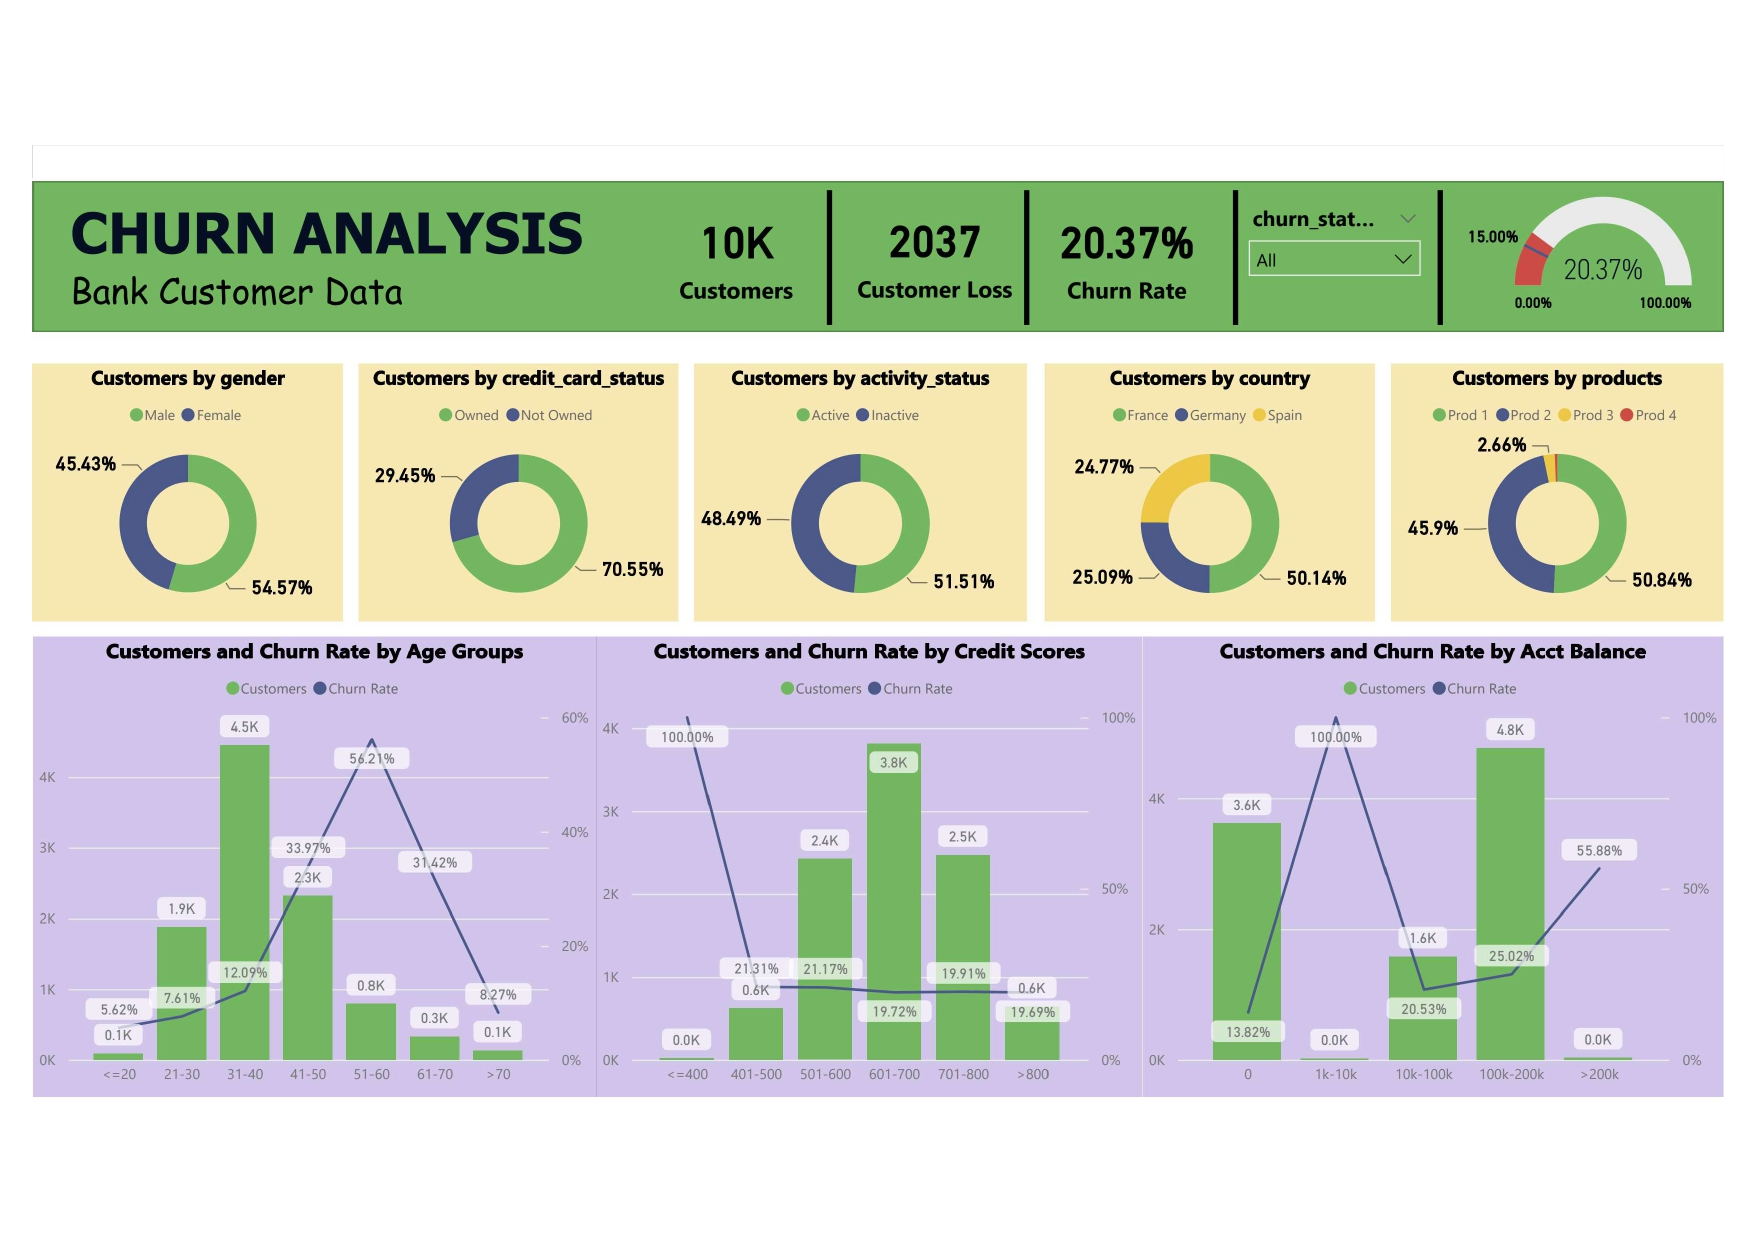

What the dashboard file says about the page in this screenshot:
{"tool":"powerbi","page":{"name":"Page 1","canvas":[1280,720],"ordinal":0},"visuals":[{"type":"shape","box":[0,26.9,1280,114.2],"z":500},{"type":"card","fields":{"Values":["Bank Customer Churn Prediction.Customers"]},"box":[461.9,35.3,141.1,94.1],"z":1000},{"type":"card","fields":{"Values":["Bank Customer Churn Prediction.Churn Rate"]},"box":[766,37,124.3,90.7],"z":2000},{"type":"card","fields":{"Values":["Bank Customer Churn Prediction.Customer Loss"]},"box":[613.1,33.6,139.4,95.7],"z":3000},{"type":"donutChart","fields":{"Category":["Bank Customer Churn Prediction.gender"],"Y":["Bank Customer Churn Prediction.Customers"]},"box":[0,164.6,235.2,194.9],"z":4000},{"type":"donutChart","fields":{"Y":["Bank Customer Churn Prediction.Customers"],"Category":["Bank Customer Churn Prediction.activity_status"]},"box":[500.6,164.6,252,194.9],"z":5000},{"type":"donutChart","fields":{"Y":["Bank Customer Churn Prediction.Customers"],"Category":["Bank Customer Churn Prediction.country"]},"box":[766,164.6,250.3,194.9],"z":6000},{"type":"donutChart","fields":{"Y":["Bank Customer Churn Prediction.Customers"],"Category":["Bank Customer Churn Prediction.products"]},"box":[1028,164.6,252,194.9],"z":7000},{"type":"donutChart","fields":{"Y":["Bank Customer Churn Prediction.Customers"],"Category":["Bank Customer Churn Prediction.credit_card_status"]},"box":[246.9,164.6,241.9,194.9],"z":8000},{"type":"lineClusteredColumnComboChart","fields":{"Y":["Bank Customer Churn Prediction.Customers"],"Y2":["Bank Customer Churn Prediction.Churn Rate"],"Category":["Age Groups.Age Groups"]},"box":[0,371.2,426.7,349.4],"z":9000},{"type":"lineClusteredColumnComboChart","fields":{"Y":["Bank Customer Churn Prediction.Customers"],"Y2":["Bank Customer Churn Prediction.Churn Rate"],"Category":["Credit Scores Groups.Credit Scores"]},"box":[426.7,371.2,413.2,349.4],"z":10000},{"type":"lineClusteredColumnComboChart","fields":{"Y":["Bank Customer Churn Prediction.Customers"],"Y2":["Bank Customer Churn Prediction.Churn Rate"],"Category":["Acct Balance Groups.Acct Balance"]},"box":[839.9,371.2,440.1,349.4],"z":11000},{"type":"slicer","fields":{"Values":["Bank Customer Churn Prediction.churn_status"]},"box":[910.4,38.6,149.5,87.3],"z":12000},{"type":"gauge","fields":{"Y":["Bank Customer Churn Prediction.Churn Rate"],"MaxValue":["Max(Bank Customer Churn Prediction.Max Churn Rate)"],"MinValue":["Min(Bank Customer Churn Prediction.Min Churn Rate)"],"TargetValue":["Max(Bank Customer Churn Prediction.Targate Churn Rate)"]},"box":[1073.4,33.6,189.8,99.1],"z":13000},{"type":"shape","box":[505.6,33.6,194.9,102.5],"z":13001},{"type":"shape","box":[813,33.6,194.9,102.5],"z":13002},{"type":"shape","box":[655.1,33.6,194.9,102.5],"z":13003},{"type":"shape","box":[976.1,33.7,178.5,102.4],"z":13004},{"type":"textbox","box":[23.5,33.6,509,142.8],"z":13005}]}

Visuals, with their boxes on the page's 1280x720 design canvas (x1, y1, x2, y2). These are canvas units, not pixel positions in the 1755x1241 screenshot, which may show the page scaled, cropped or inside an application window:
shape: 0:27:1280:141
card - Bank Customer Churn Prediction.Customers: 462:35:603:129
card - Bank Customer Churn Prediction.Churn Rate: 766:37:890:128
card - Bank Customer Churn Prediction.Customer Loss: 613:34:752:129
donutChart - Bank Customer Churn Prediction.gender x Bank Customer Churn Prediction.Customers: 0:165:235:360
donutChart - Bank Customer Churn Prediction.Customers x Bank Customer Churn Prediction.activity_status: 501:165:753:360
donutChart - Bank Customer Churn Prediction.Customers x Bank Customer Churn Prediction.country: 766:165:1016:360
donutChart - Bank Customer Churn Prediction.Customers x Bank Customer Churn Prediction.products: 1028:165:1280:360
donutChart - Bank Customer Churn Prediction.Customers x Bank Customer Churn Prediction.credit_card_status: 247:165:489:360
lineClusteredColumnComboChart - Bank Customer Churn Prediction.Customers x Bank Customer Churn Prediction.Churn Rate: 0:371:427:721
lineClusteredColumnComboChart - Bank Customer Churn Prediction.Customers x Bank Customer Churn Prediction.Churn Rate: 427:371:840:721
lineClusteredColumnComboChart - Bank Customer Churn Prediction.Customers x Bank Customer Churn Prediction.Churn Rate: 840:371:1280:721
slicer - Bank Customer Churn Prediction.churn_status: 910:39:1060:126
gauge - Bank Customer Churn Prediction.Churn Rate x Max(Bank Customer Churn Prediction.Max Churn Rate): 1073:34:1263:133
shape: 506:34:700:136
shape: 813:34:1008:136
shape: 655:34:850:136
shape: 976:34:1155:136
textbox: 24:34:532:176
